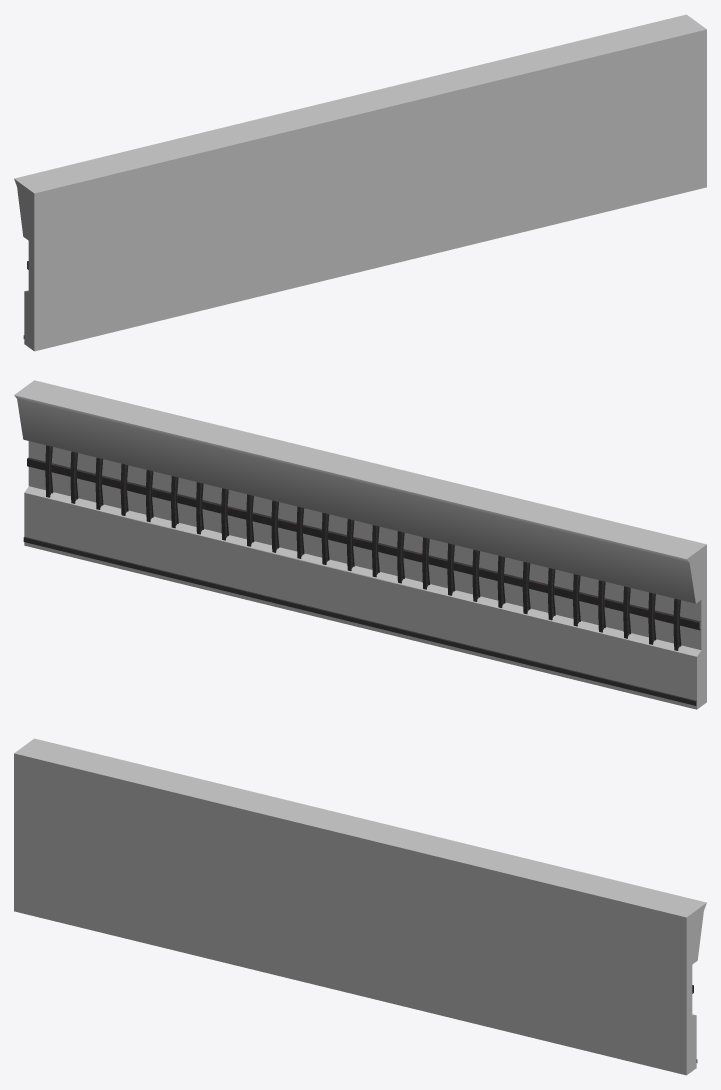
File: BG_GR_BD_Wall_07.fbx
3 renders of one model, top to bottom at view 1: azimuth 30°, elevation 25°; view 2: azimuth 150°, elevation 25°; view 3: azimuth 330°, elevation 25°, orthographic.
Parts seen in each view (by area): view 1: GenRm_wall_bottom_low.009; view 2: GenRm_wall_bottom_low.009, GenRm_wall_mid_low.004, GenRm_wall_mid_low.003, GenRm_wall_bottom_low.012; view 3: GenRm_wall_bottom_low.009.
Part boxes in pixels (x1,y1,x2,y2): GenRm_wall_bottom_low.009: (14, 14, 706, 351); GenRm_wall_bottom_low.009: (14, 380, 706, 709); GenRm_wall_mid_low.004: (45, 445, 681, 650); GenRm_wall_mid_low.003: (27, 457, 700, 630); GenRm_wall_bottom_low.012: (23, 537, 696, 705); GenRm_wall_bottom_low.009: (14, 738, 706, 1075).
Bounding box in the file's own units: 27.5 × 1.44 × 6.17.
